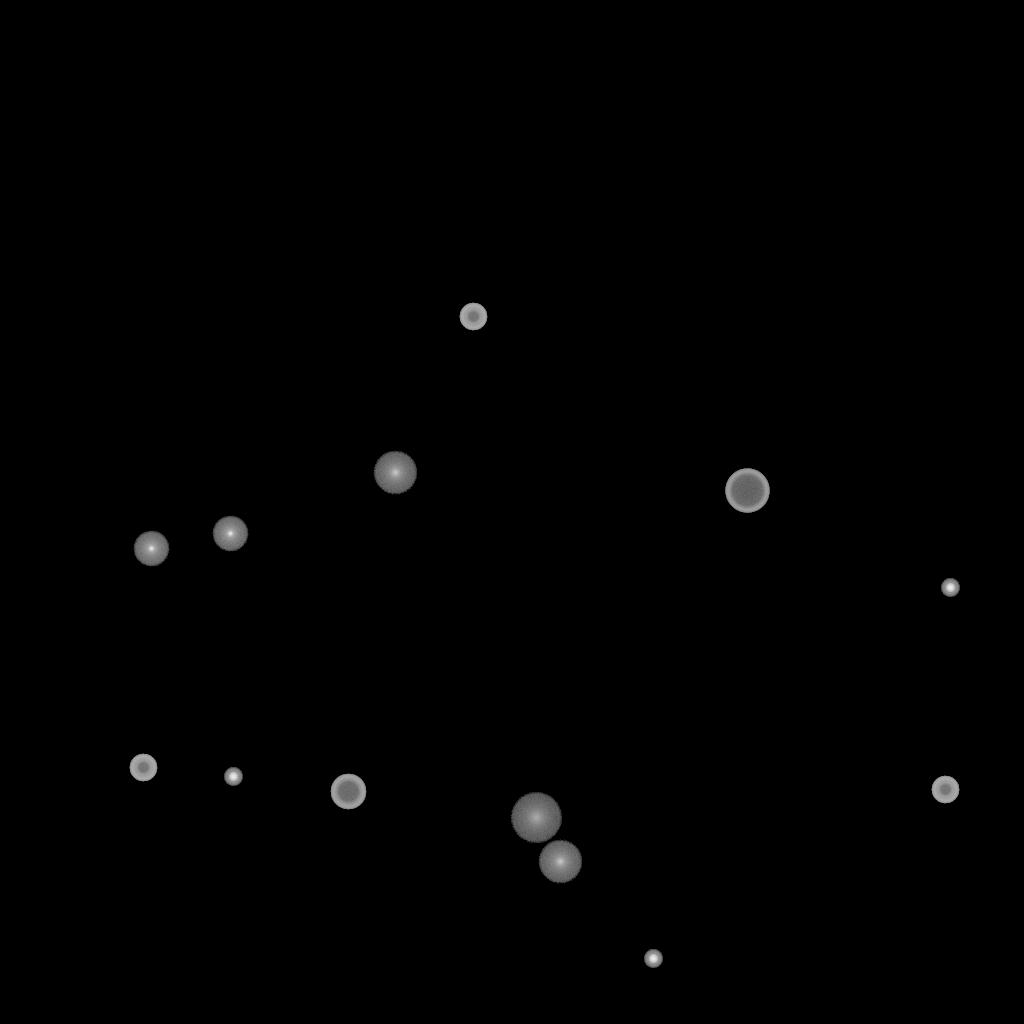depth:-20: (941, 579, 959, 597), (644, 950, 662, 968), (224, 768, 242, 786)
depth:-50: (129, 754, 157, 782), (931, 776, 959, 804), (459, 303, 487, 331)
depth:-60: (330, 774, 366, 810)
depth:-70: (725, 469, 769, 513)
depth:0: (212, 516, 248, 552), (133, 531, 169, 567)
depth:10: (373, 451, 417, 495), (538, 840, 582, 884)
depth:20: (510, 793, 562, 843)
